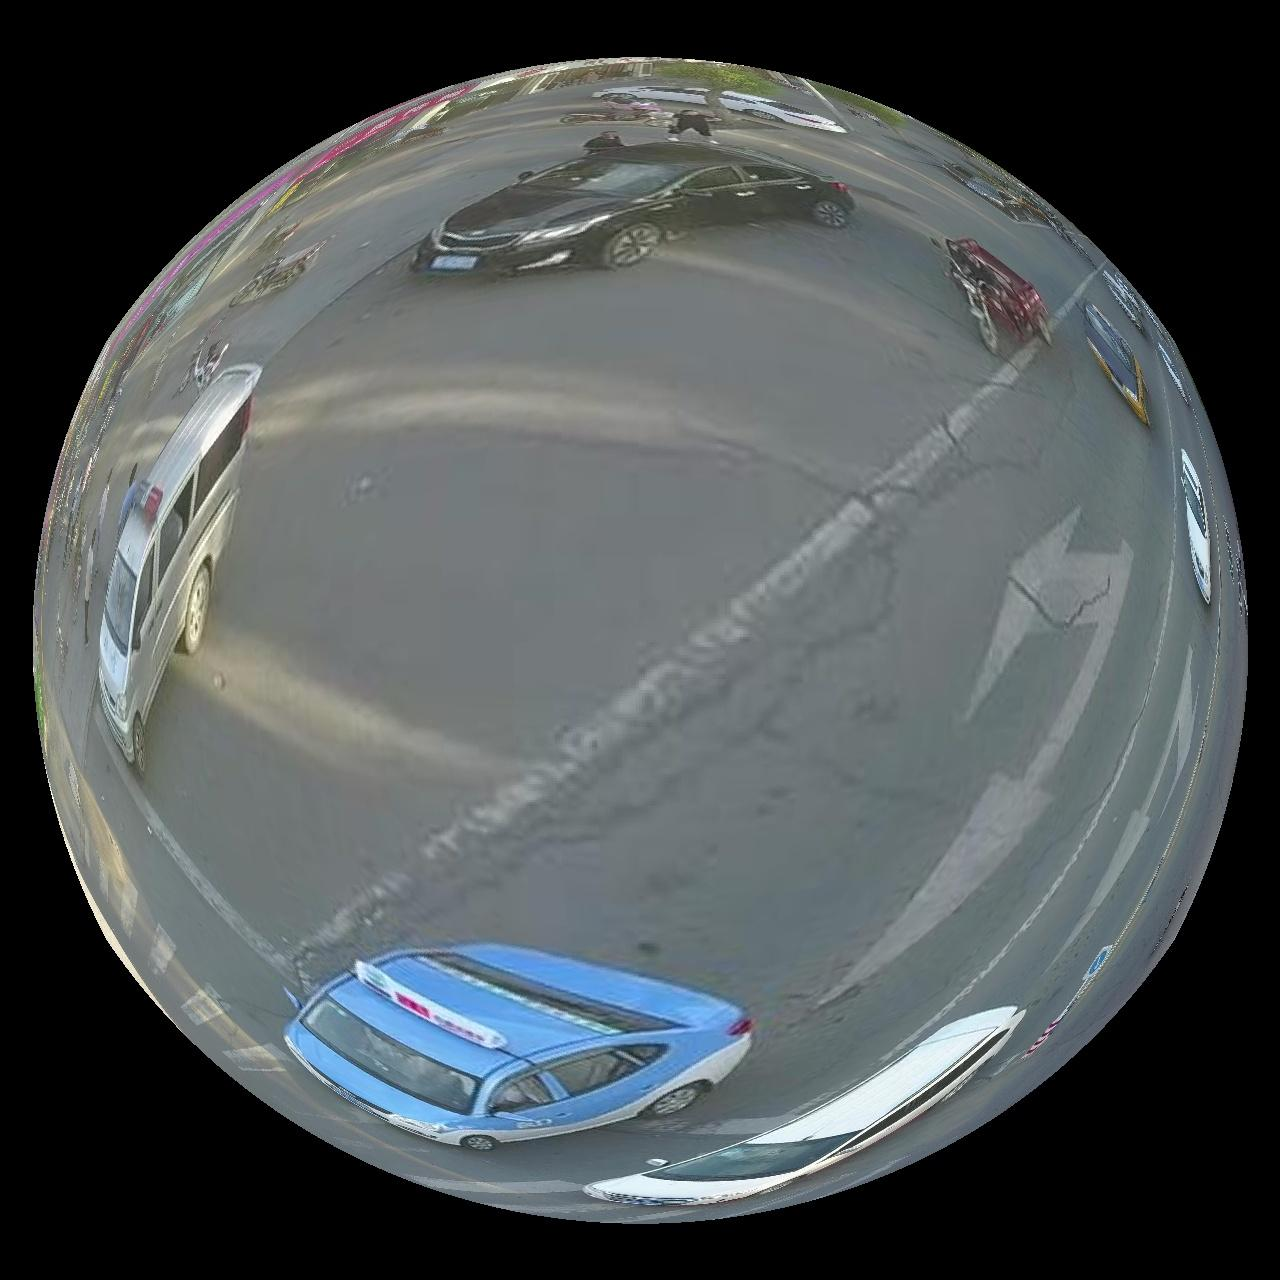cars: (285, 945, 754, 1153), (585, 1008, 1027, 1207), (97, 363, 260, 763), (415, 135, 855, 272), (1087, 300, 1150, 423), (1183, 449, 1216, 604)
